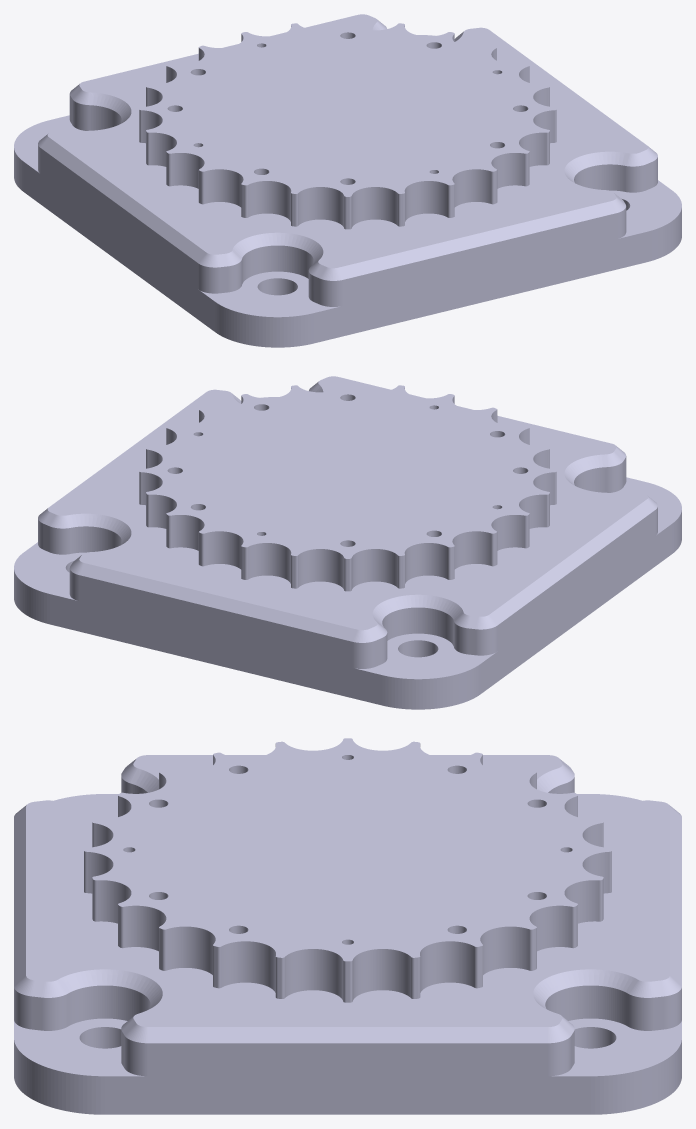
3 renders of one model, top to bottom at view 1: azimuth 30°, elevation 25°; view 2: azimuth 150°, elevation 25°; view 3: azimuth 270°, elevation 25°, orthographic. The views are drawn at different scales.
Visible parts, largest first — view 1: node0; view 2: node0; view 3: node0.
Part boxes in pixels (x1,y1,x2,y2): node0: [14, 14, 681, 347]; node0: [14, 376, 681, 709]; node0: [14, 738, 681, 1114].
Size of the model in its own units: 0.11 by 0.11 by 0.0225.
